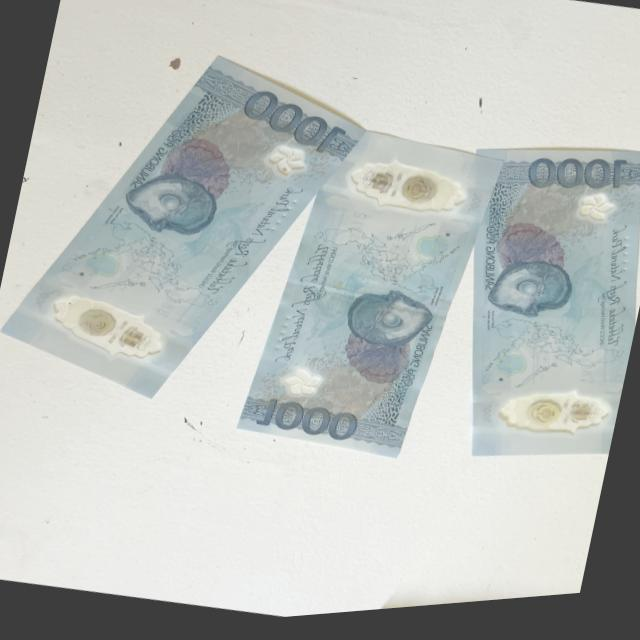clear_window: (21, 282, 193, 381), (488, 380, 618, 468), (337, 156, 473, 232)
sampaguita: (257, 144, 314, 189), (573, 197, 622, 244), (277, 369, 325, 407)
value: (251, 392, 373, 457)
